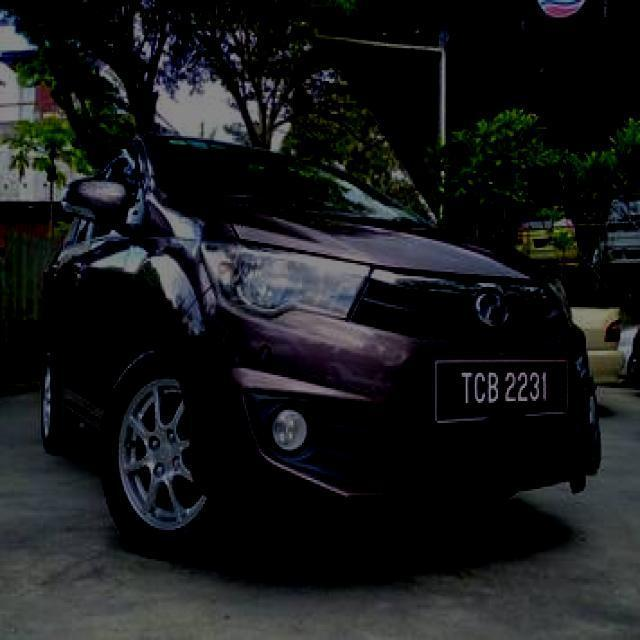PeroduaBezza: (36, 131, 603, 553)
